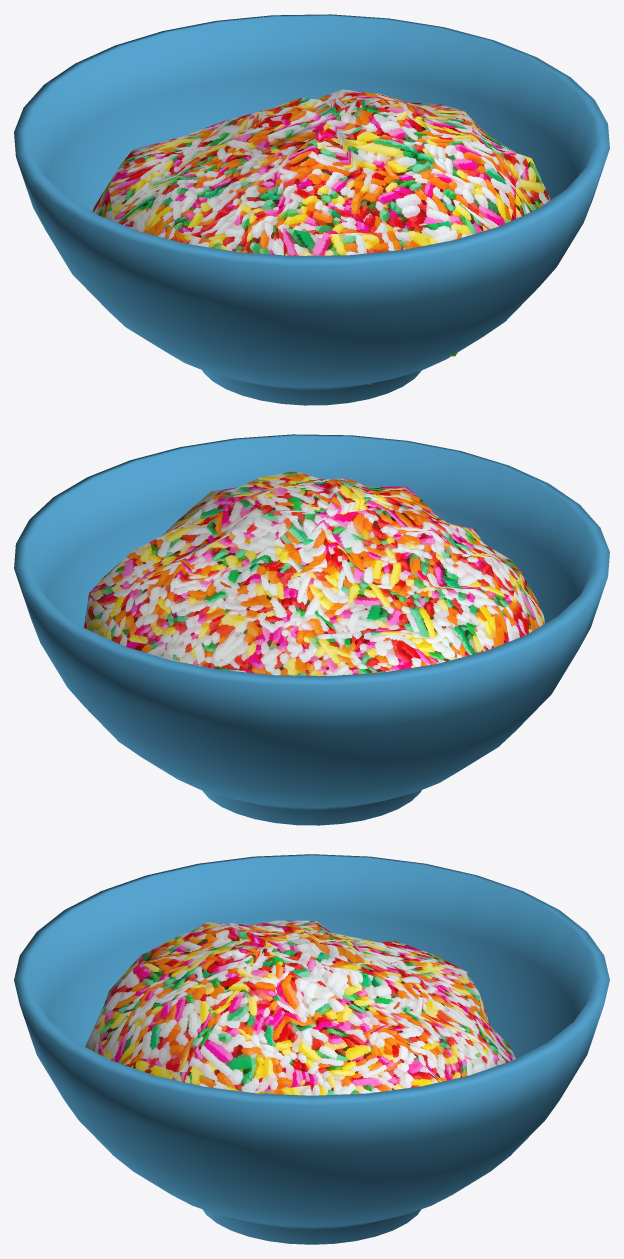
File: Bowl of Sprinkles.obj
3 renders of one model, top to bottom at view 1: azimuth 30°, elevation 25°; view 2: azimuth 150°, elevation 25°; view 3: azimuth 270°, elevation 25°, orthographic.
Parts seen in each view (by area): view 1: Bowl_of_Sprinkles; view 2: Bowl_of_Sprinkles; view 3: Bowl_of_Sprinkles.
Boxes of the visible parts, <box> form: Bowl_of_Sprinkles: <box>14,14,609,405</box>; Bowl_of_Sprinkles: <box>14,434,609,825</box>; Bowl_of_Sprinkles: <box>14,854,609,1244</box>.
Size of the model in its own units: 0.4424 by 0.2124 by 0.4424.
